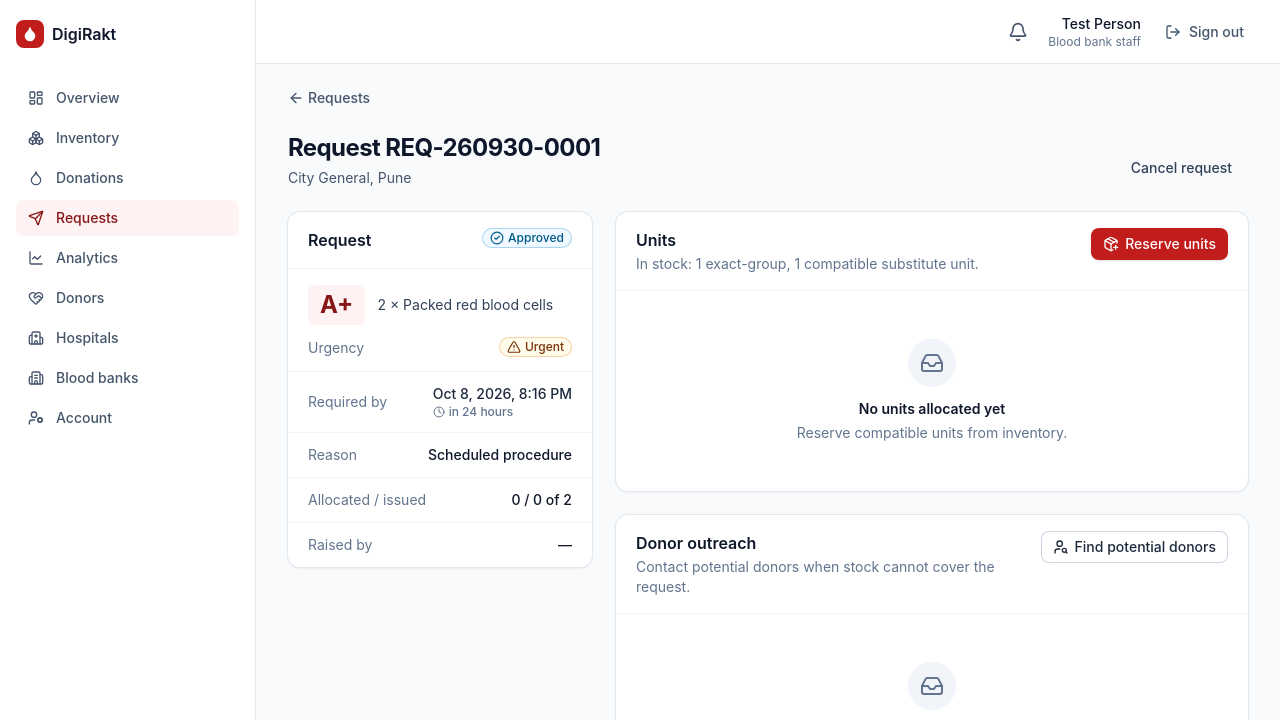
Scenario: staff allocation › pre-selects the suggested units, lets staff change them, and reserves on confirm
Expected: the text "In stock: 1 exact-group, 1 compatible substitute unit." is shown, [636,254,979,274]
Click the button "Reserve units" at coordinates (1160, 244), box [1091,228,1228,260]
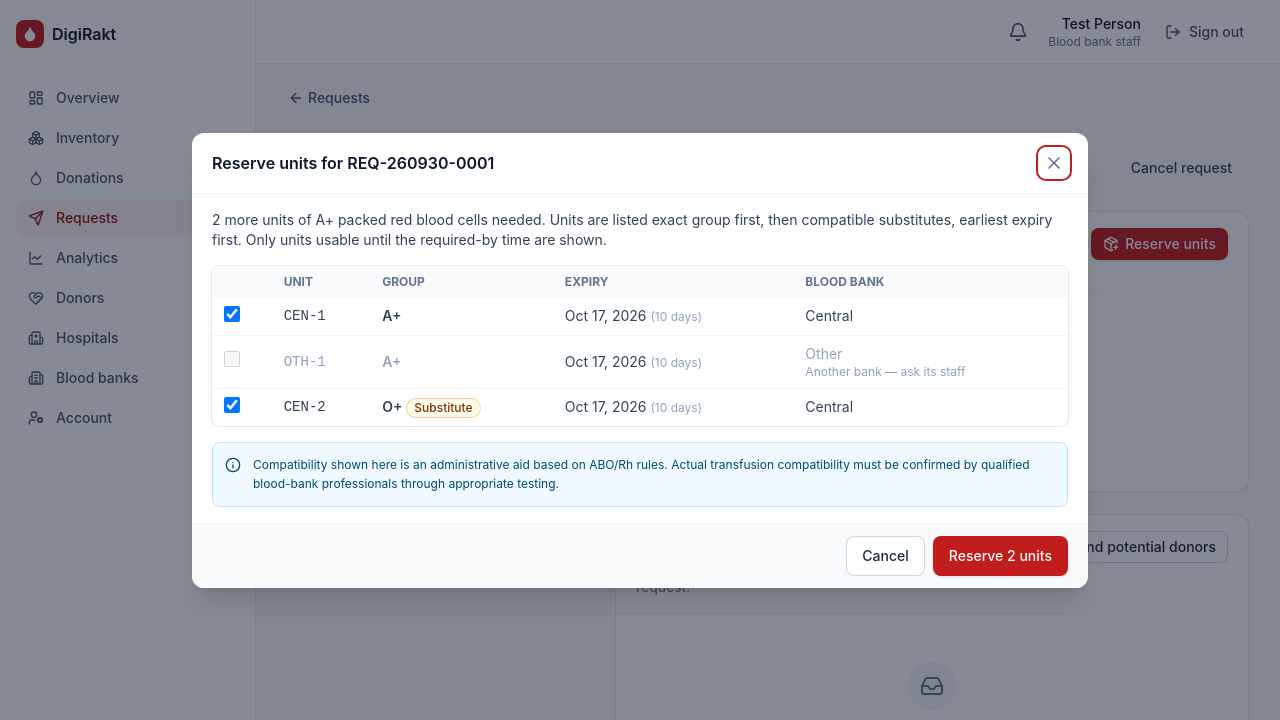
Result: the text "CEN-1" is shown at [272,298,370,335]
Result: the checkbox named "Select unit CEN-1" is checked at [224,306,240,322]
Result: the checkbox named "Select unit OTH-1" is disabled at [224,351,240,367]
Click the checkbox named "Select unit CEN-2" at coordinates (232, 404), box [224,396,240,412]
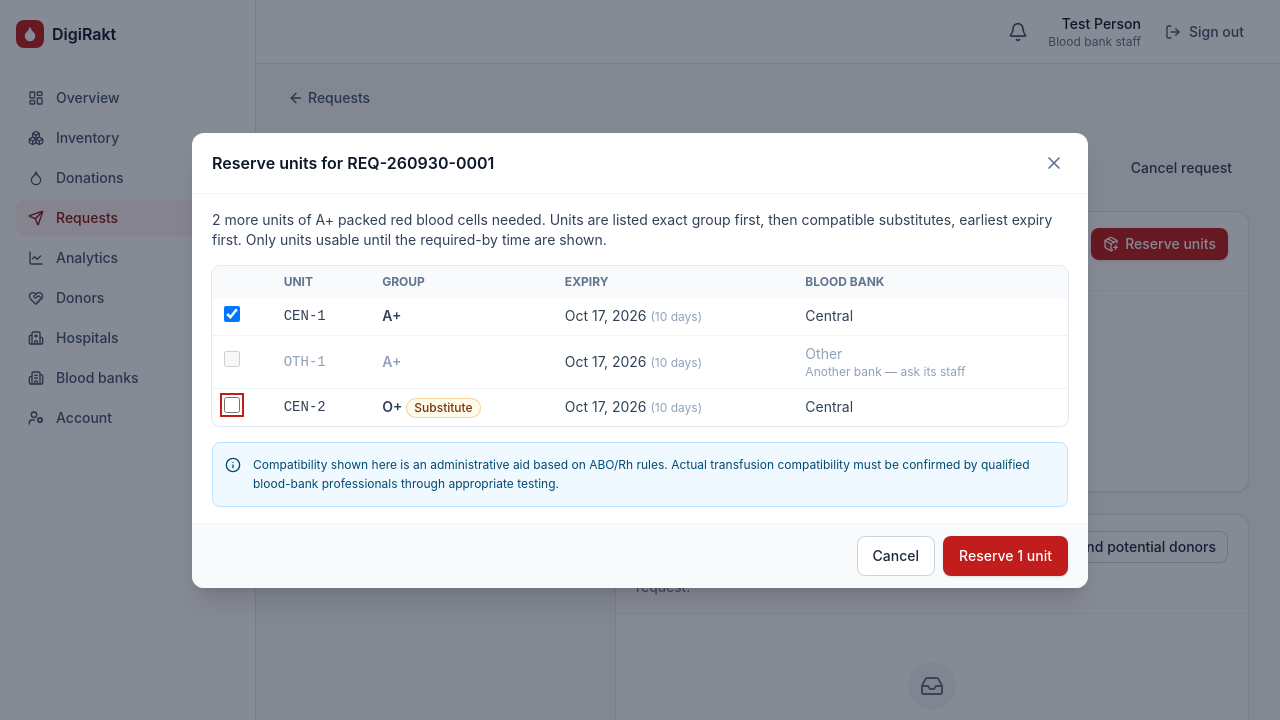
Click the button "Reserve 1 unit" at coordinates (1006, 556), box [943,536,1068,576]
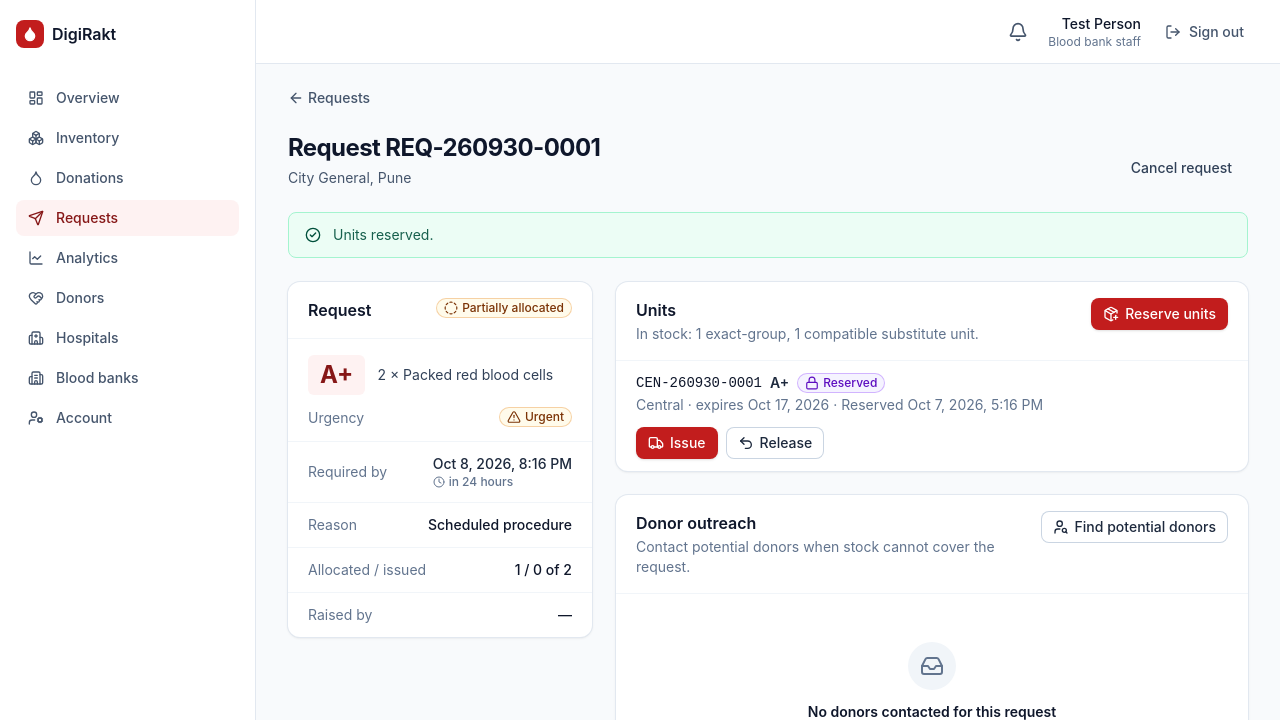
Result: the text "Units reserved." is shown at [333,226,434,243]
Result: the button "Issue" is shown at [636,427,718,459]
